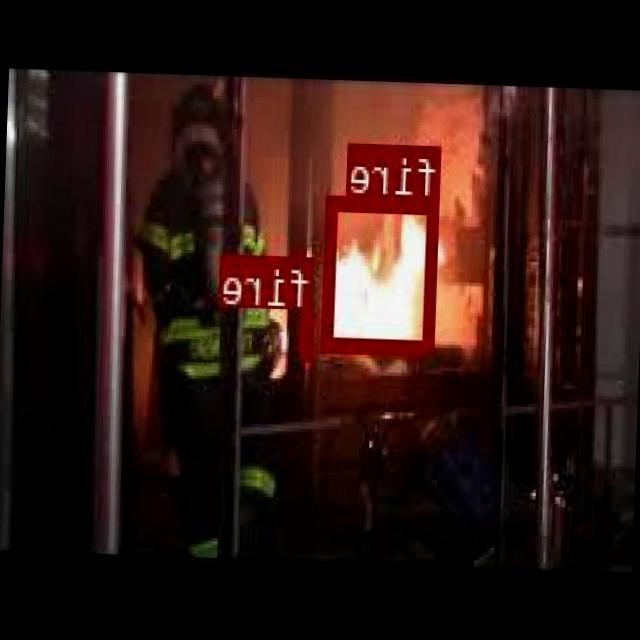fire: (323, 194, 441, 351), (304, 308, 312, 358)
